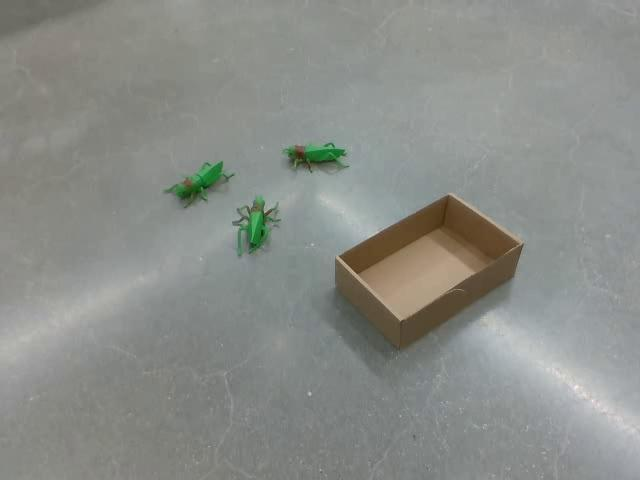box: (333, 191, 524, 350)
grasshopper: (162, 159, 234, 208), (231, 194, 281, 256), (282, 141, 348, 173)
